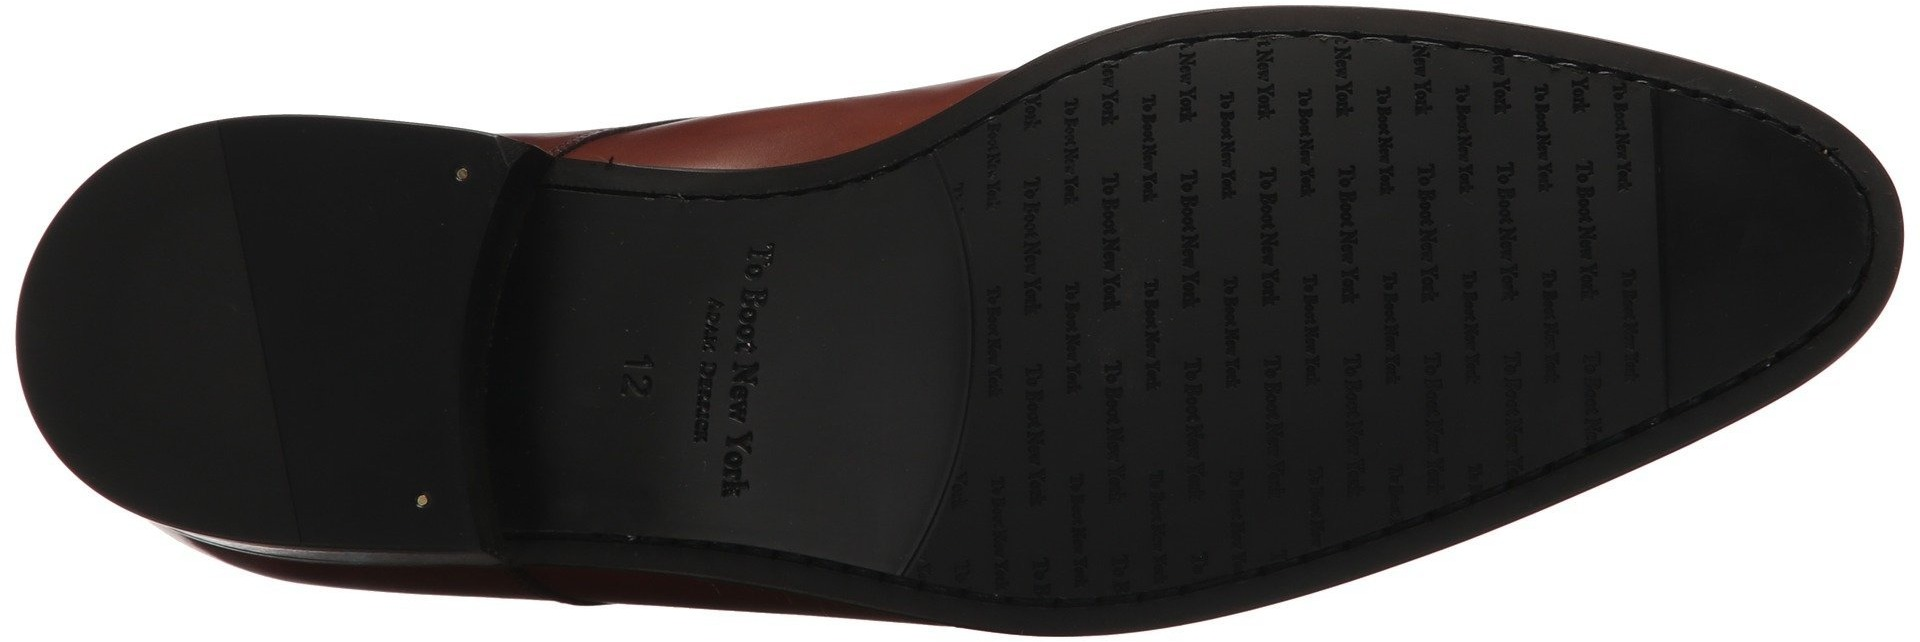circle: (393, 466, 456, 528)
exclude: (442, 42, 1035, 172)
other: (73, 174, 389, 466), (1682, 165, 1823, 301)
text: (1007, 40, 1462, 528), (567, 218, 860, 519), (1458, 154, 1664, 328), (1480, 346, 1559, 417)
